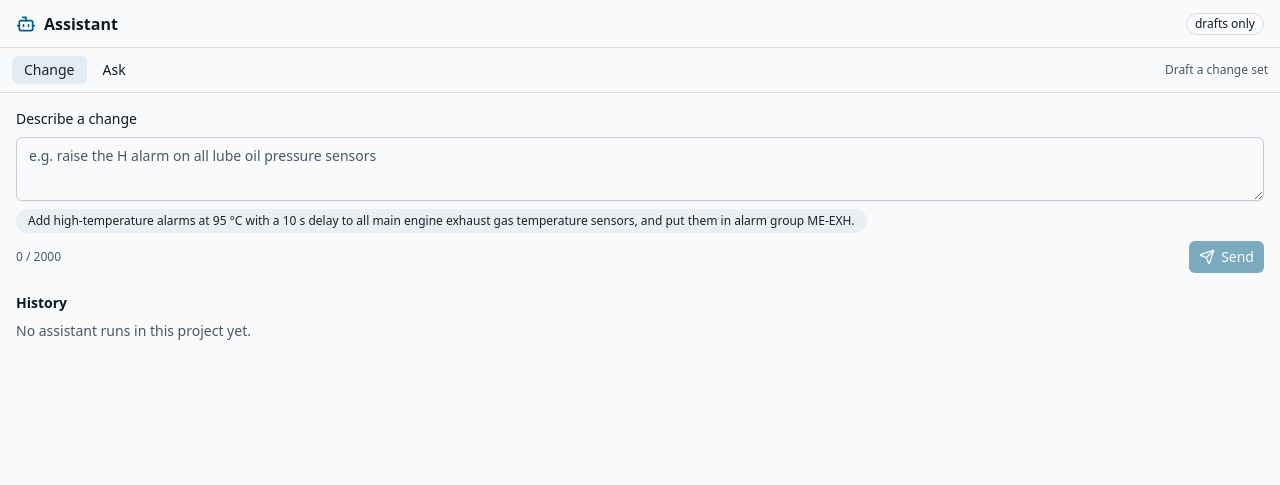
Test case: Ask mode › answers as plain text with citation chips only for returned citations; HTML is not rendered
This screenshot has width=1280, height=485.
Click the tab "Ask": (114, 70) [90, 56, 138, 84]
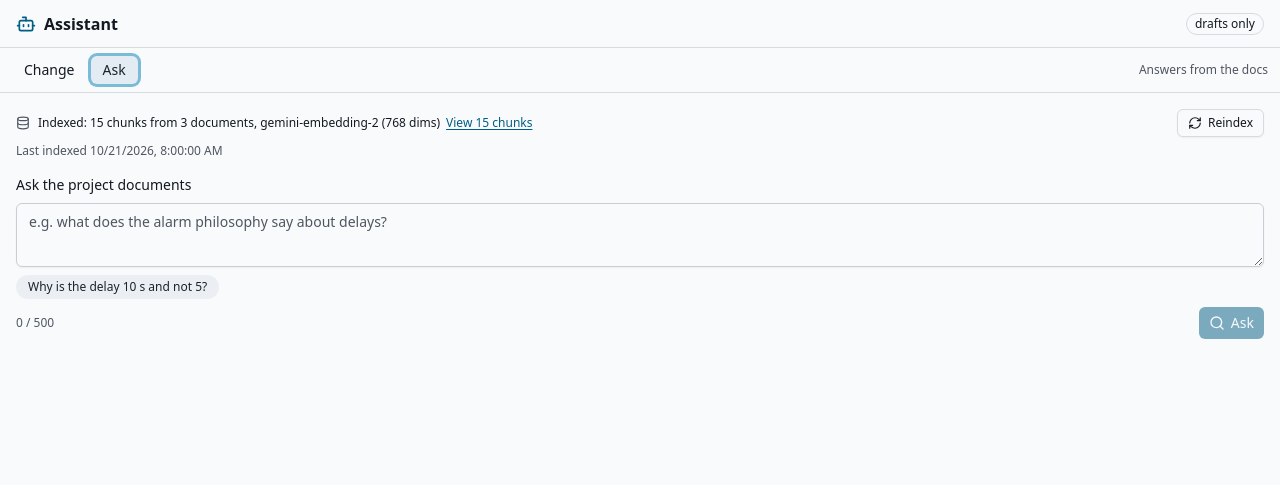
Click the button "Why is the delay 10 s and not 5?": (118, 287) [16, 275, 219, 299]
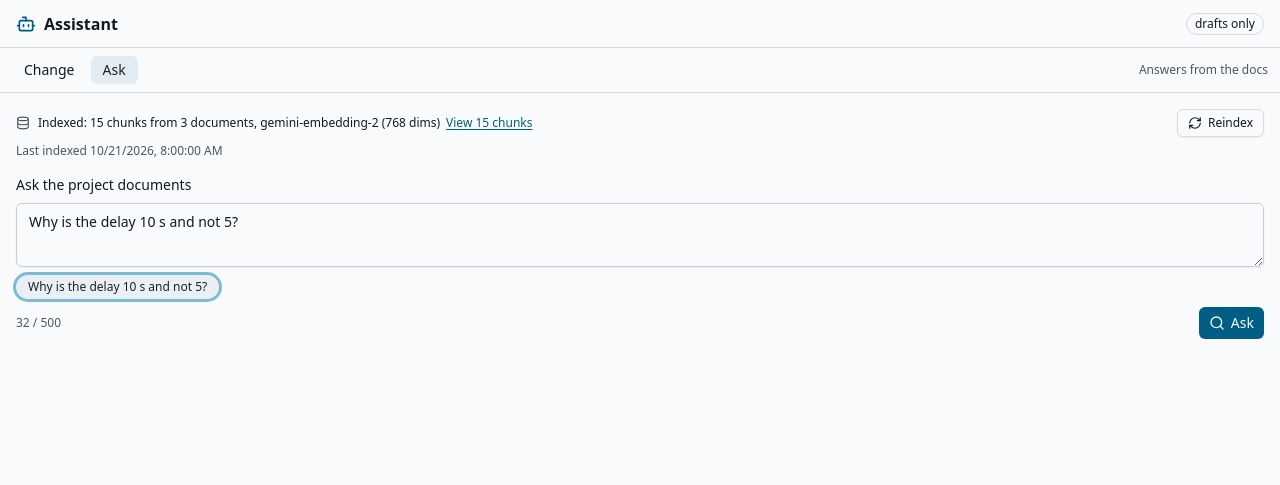
Click the button "Ask": (1231, 323) [1199, 307, 1264, 339]
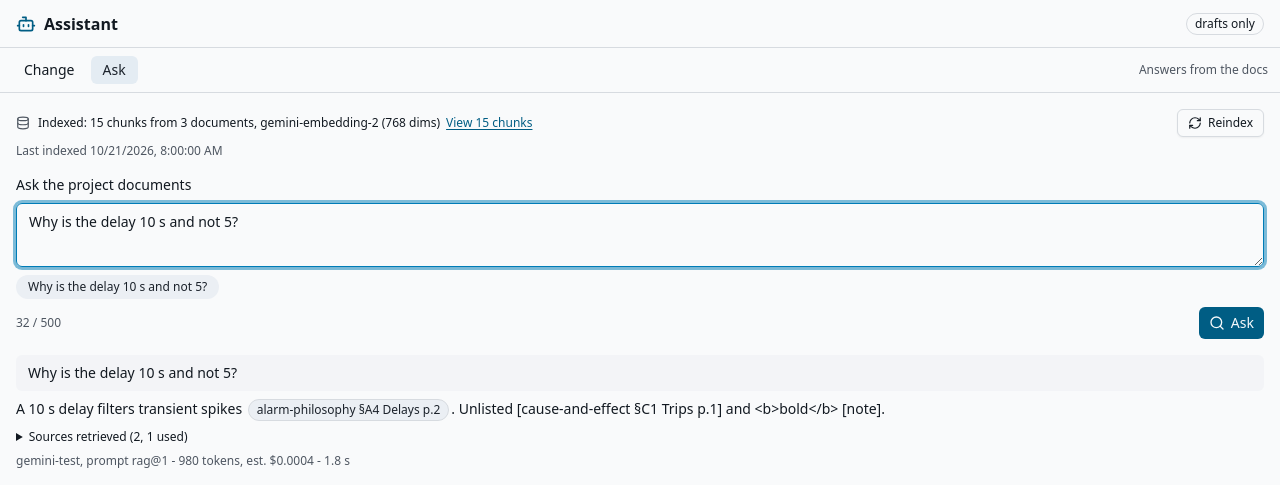
Expected: the number of elements with test id "citation-chip" is 1, [248, 399, 449, 421]
Expected: the text with test id "citation-chip" reads "alarm-philosophy §A4 Delays p.2", [257, 401, 440, 418]
Expected: the element with test id "ask-answer" shows "<b>bold</b>", [451, 399, 885, 418]
